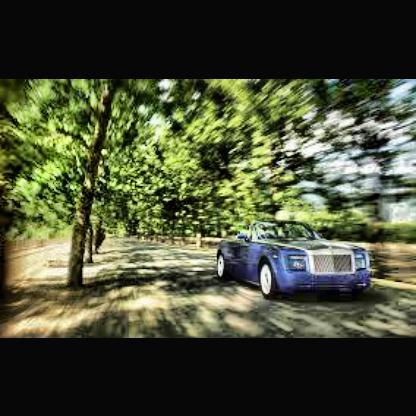Rolls-Royce Phantom Drophead Coupe Convertible 2012: (215, 217, 380, 307)
